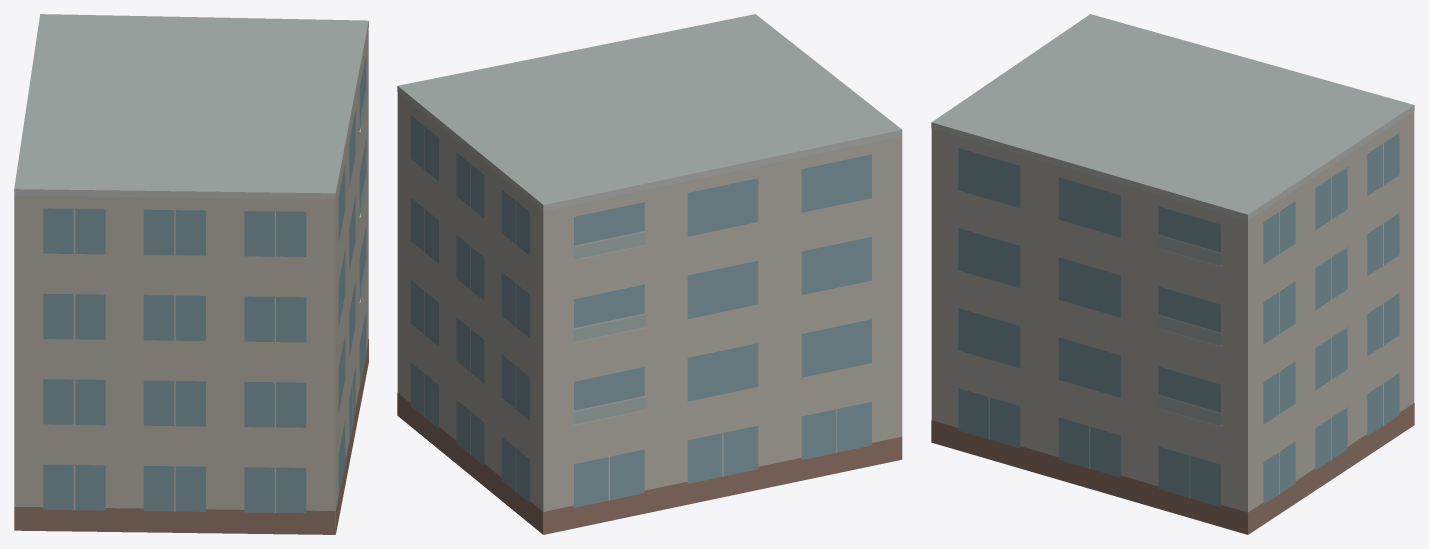
Rendered from survey-upis-32708859.glb.
The picture shows the model from 3 angles, left to right: view 1: azimuth 30°, elevation 25°; view 2: azimuth 150°, elevation 25°; view 3: azimuth 270°, elevation 25°; orthographic projection. The views are drawn at different scales.
Parts seen in each view (by area): view 1: survey-upis-32708859.tmp; view 2: survey-upis-32708859.tmp; view 3: survey-upis-32708859.tmp.
Boxes of the visible parts, x1,y1,x2,y2 form: survey-upis-32708859.tmp: (14, 14, 368, 534); survey-upis-32708859.tmp: (397, 14, 902, 534); survey-upis-32708859.tmp: (931, 14, 1414, 534).
Size of the model in its own units: 17.4 by 12.94 by 17.7.
